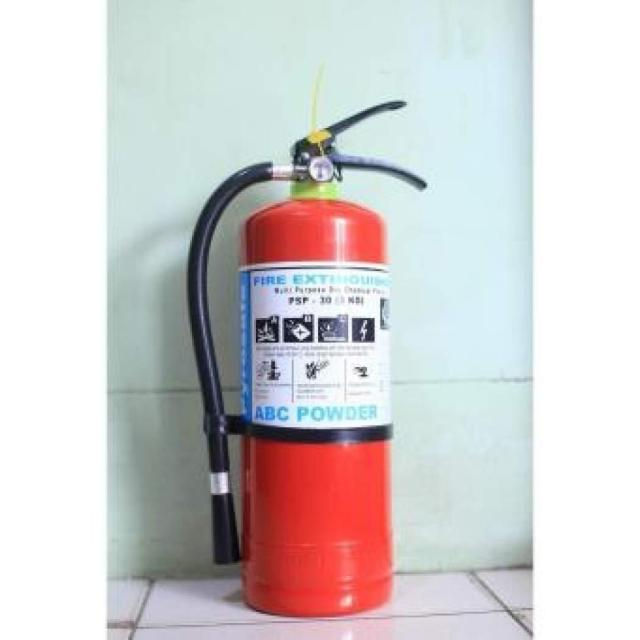fire_extinguisher: (182, 96, 433, 628)
